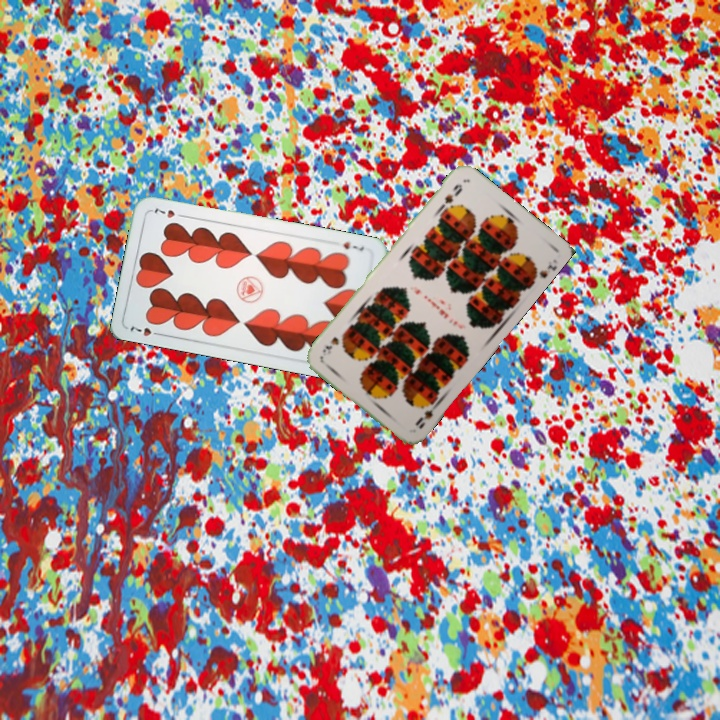H7: (126, 322, 165, 339), (339, 238, 366, 254)
S9: (411, 397, 441, 431), (436, 180, 465, 213)
